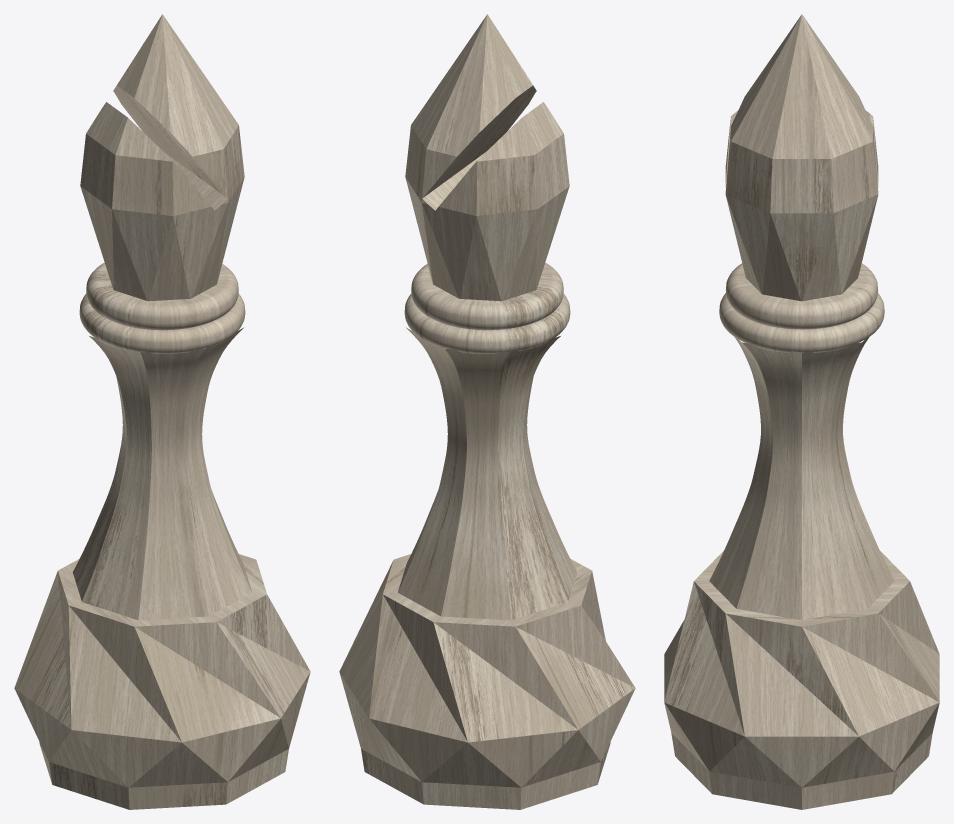
The model's file is bishop-white.glb.
The picture shows the model from 3 angles, left to right: view 1: azimuth 30°, elevation 25°; view 2: azimuth 150°, elevation 25°; view 3: azimuth 270°, elevation 25°; orthographic projection.
Visible parts, largest first — view 1: Lithoxyl_Bishop_Ivory; view 2: Lithoxyl_Bishop_Ivory; view 3: Lithoxyl_Bishop_Ivory.
Boxes of the visible parts, x1,y1,x2,y2 form: Lithoxyl_Bishop_Ivory: (14,14,310,809); Lithoxyl_Bishop_Ivory: (339,14,635,809); Lithoxyl_Bishop_Ivory: (664,14,939,809).
Size of the model in its own units: 0.4372 by 1.3 by 0.4372.
Materials: 1 (1 with a texture image).
